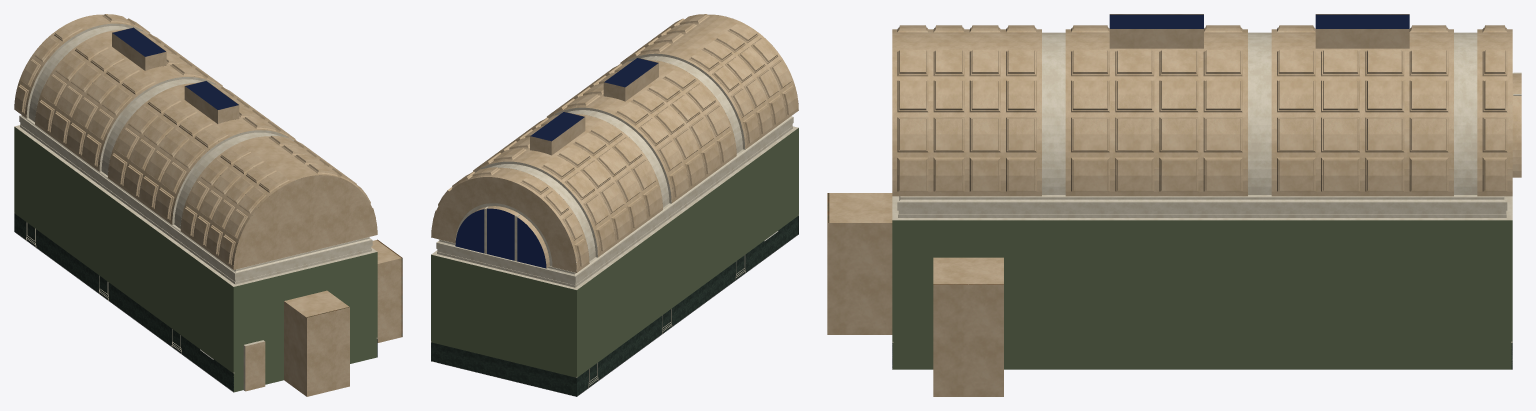
File: sala.glb
3 views of the same model, side by side, from view 1: azimuth 30°, elevation 25°; view 2: azimuth 150°, elevation 25°; view 3: azimuth 270°, elevation 25° (orthographic). The views are drawn at different scales.
Visible parts, largest first — view 1: muros, boveda, emisivos; view 2: muros, boveda, emisivos, suelo; view 3: muros, boveda, emisivos.
Part boxes in pixels (left/top/right/bottom): muros: left=14, top=15, right=401, bottom=396; boveda: left=14, top=14, right=377, bottom=269; emisivos: left=112, top=27, right=238, bottom=109; muros: left=431, top=15, right=798, bottom=396; boveda: left=431, top=14, right=798, bottom=272; emisivos: left=455, top=58, right=658, bottom=268; suelo: left=432, top=235, right=797, bottom=396; muros: left=827, top=72, right=1521, bottom=396; boveda: left=892, top=14, right=1512, bottom=196; emisivos: left=1109, top=14, right=1409, bottom=28.
Bounding box in the file's own units: 10.32 × 11.2 × 23.6.
Materials: 20 (8 with a texture image).
